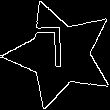L_S: (43, 29, 77, 80)
